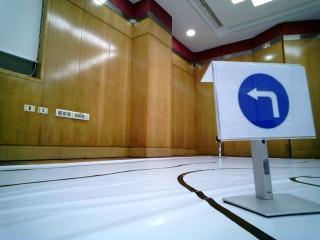left: (221, 65, 311, 132)
